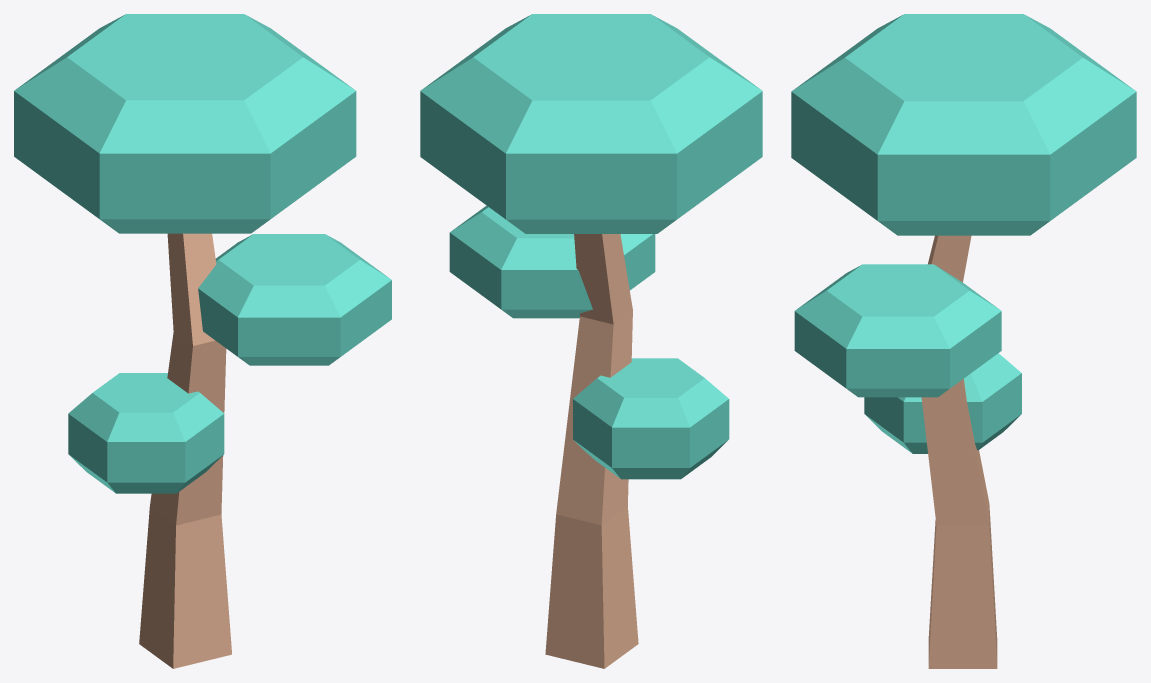
Rendered from tree_plateau.gltf.
3 views of the same model, side by side, from view 1: azimuth 30°, elevation 25°; view 2: azimuth 150°, elevation 25°; view 3: azimuth 270°, elevation 25° (orthographic).
Visible parts, largest first — view 1: tree_plateau; view 2: tree_plateau; view 3: tree_plateau.
Boxes of the visible parts, x1=… form: tree_plateau: x1=14, y1=14, x2=391, y2=668; tree_plateau: x1=420, y1=14, x2=762, y2=668; tree_plateau: x1=791, y1=14, x2=1136, y2=668.
Size of the model in its own units: 0.6117 by 1.25 by 0.6549.
